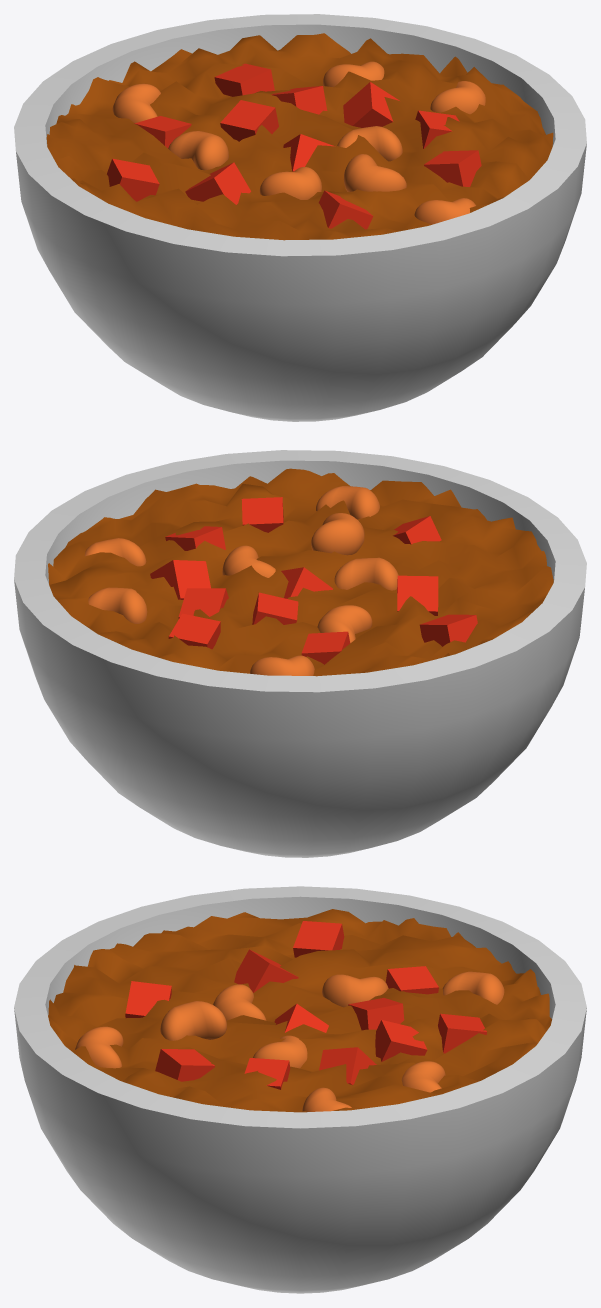
The model's file is chili.glb.
3 views of the same model, one above another, from view 1: azimuth 30°, elevation 25°; view 2: azimuth 150°, elevation 25°; view 3: azimuth 270°, elevation 25° (orthographic).
Parts seen in each view (by area): view 1: Sphere, Circle, Sphere.002, Cube.002, Sphere.003, Cube.010, Cube.007, Cube.004, Cube.006, Cube.003, Sphere.009, Sphere.008 (+9 smaller); view 2: Sphere, Circle, Sphere.002, Sphere.009, Cube.002, Sphere.006, Cube.007, Sphere.011, Sphere.003, Cube.006, Cube.004, Cube.003 (+9 smaller); view 3: Sphere, Circle, Sphere.002, Sphere.003, Cube.008, Cube.003, Cube.007, Cube.004, Sphere.011, Sphere.008, Cube.006, Cube.010 (+9 smaller).
Part boxes in pixels (left/top/right/bottom): Sphere: left=14, top=14, right=586, bottom=421; Circle: left=46, top=33, right=553, bottom=240; Sphere.002: left=343, top=154, right=406, bottom=191; Cube.002: left=343, top=82, right=399, bottom=127; Sphere.003: left=168, top=131, right=228, bottom=170; Cube.010: left=220, top=100, right=278, bottom=141; Cube.007: left=107, top=158, right=159, bottom=201; Cube.004: left=185, top=162, right=250, bottom=204; Cube.006: left=214, top=63, right=274, bottom=96; Cube.003: left=424, top=150, right=481, bottom=186; Sphere.009: left=259, top=167, right=321, bottom=199; Sphere.008: left=112, top=83, right=160, bottom=123; Sphere: left=14, top=450, right=586, bottom=857; Circle: left=48, top=468, right=553, bottom=676; Sphere.002: left=311, top=513, right=364, bottom=555; Sphere.009: left=334, top=557, right=398, bottom=590; Cube.002: left=150, top=560, right=210, bottom=599; Sphere.006: left=88, top=587, right=147, bottom=623; Cube.007: left=419, top=614, right=477, bottom=646; Sphere.011: left=316, top=486, right=379, bottom=519; Sphere.003: left=317, top=605, right=372, bottom=642; Cube.006: left=168, top=613, right=220, bottom=649; Cube.004: left=397, top=575, right=438, bottom=615; Cube.003: left=241, top=497, right=283, bottom=532; Sphere: left=14, top=886, right=586, bottom=1293; Circle: left=48, top=909, right=551, bottom=1112; Sphere.002: left=160, top=1001, right=226, bottom=1040; Sphere.003: left=322, top=974, right=388, bottom=1007; Cube.008: left=375, top=1020, right=427, bottom=1061; Cube.003: left=155, top=1049, right=214, bottom=1081; Cube.007: left=293, top=921, right=344, bottom=957; Cube.004: left=234, top=949, right=298, bottom=992; Sphere.011: left=75, top=1026, right=123, bottom=1068; Sphere.008: left=442, top=971, right=504, bottom=1004; Cube.006: left=438, top=1013, right=486, bottom=1053; Cube.010: left=348, top=998, right=404, bottom=1030.
Bounding box in the file's own units: 0.7763 × 0.3743 × 0.7763.
Materials: 3 (3 with a texture image).
